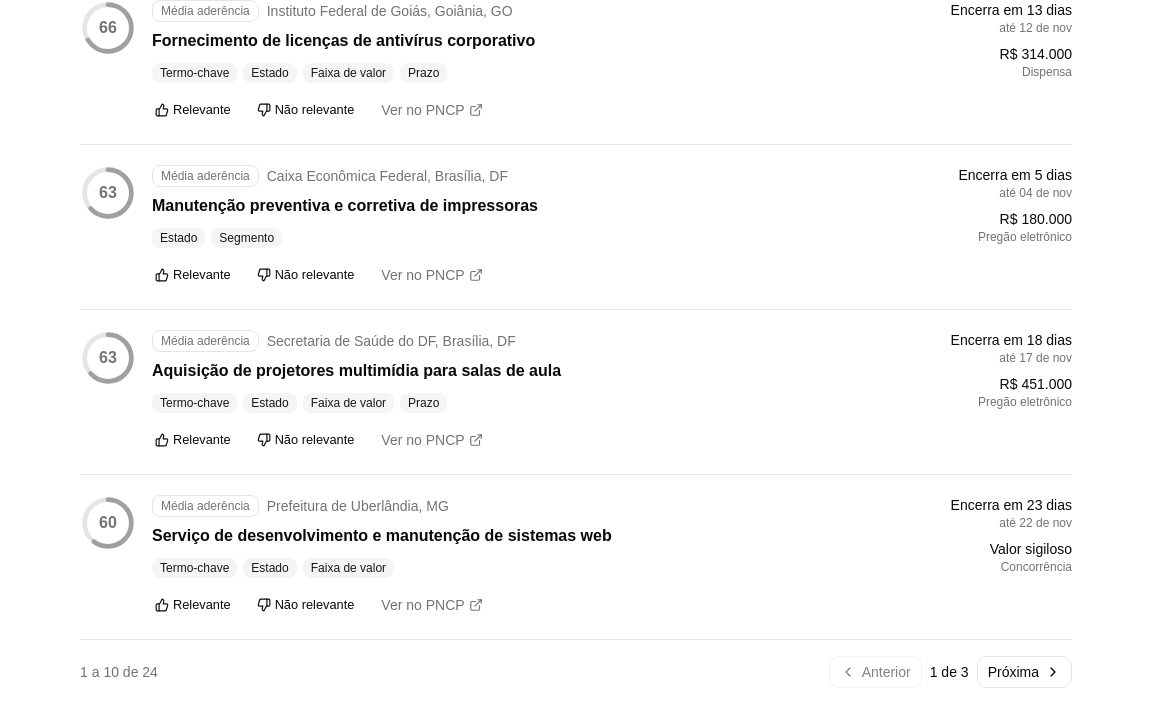
Test: Feed › pagina e guarda a página na URL
This screenshot has width=1152, height=720.
(page scrolled)
Click the button "Próxima": (1024, 672) [977,656,1072,688]
(page scrolled)
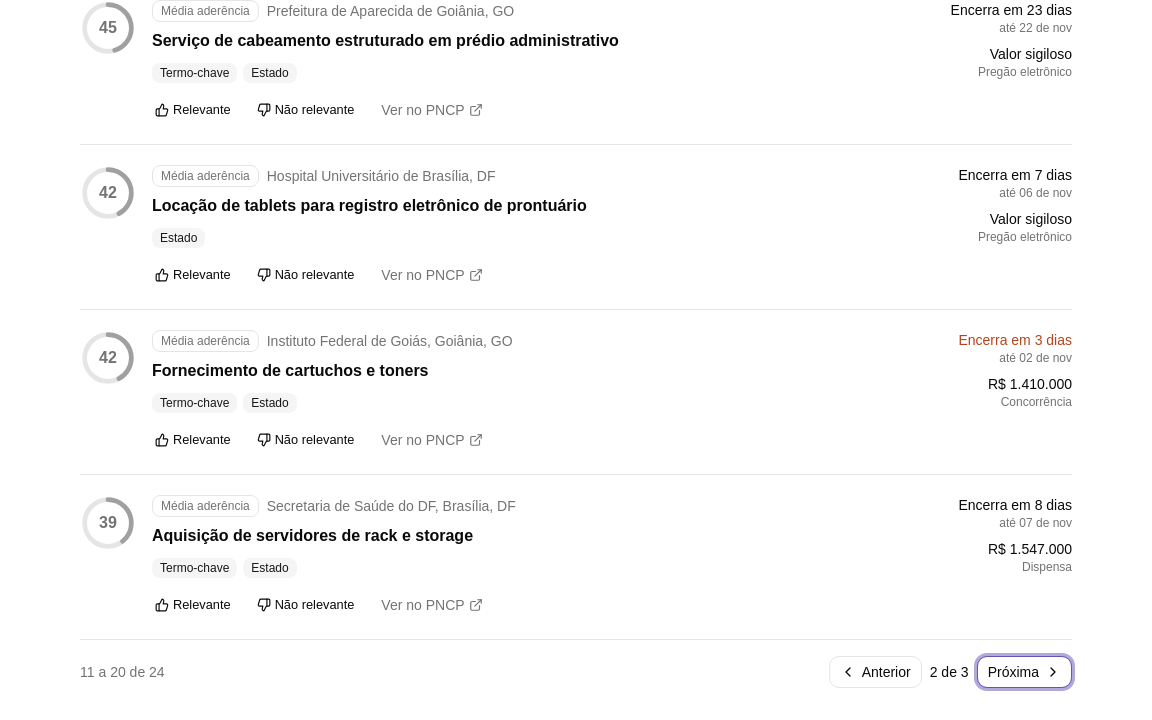
Now the text "2 de 3" is shown, box [930,662,969,682]
